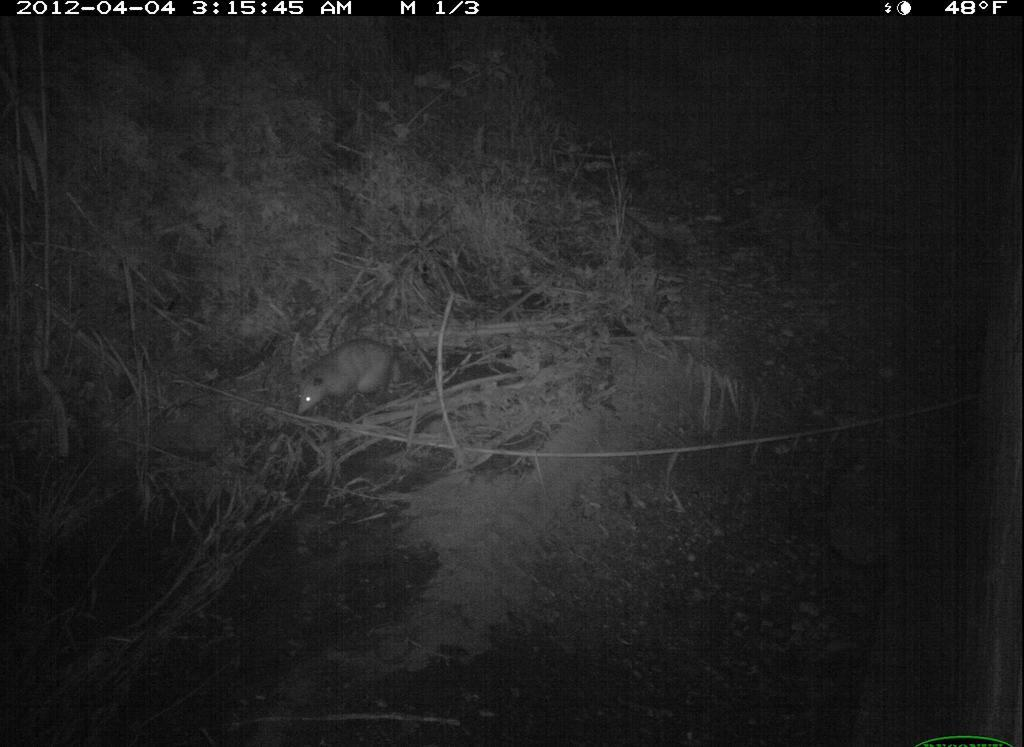opossum: (289, 333, 434, 425)
